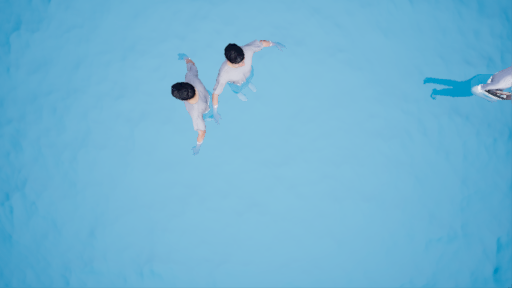person: (208, 30, 287, 121), (169, 54, 221, 154), (425, 70, 512, 113)
